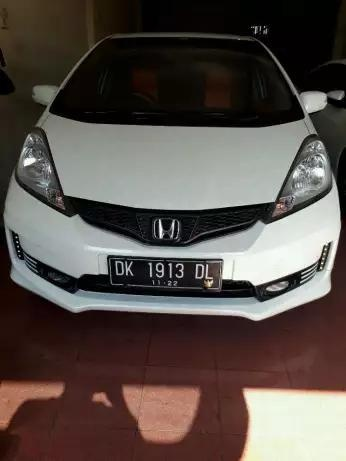plate: (112, 257, 219, 290)
